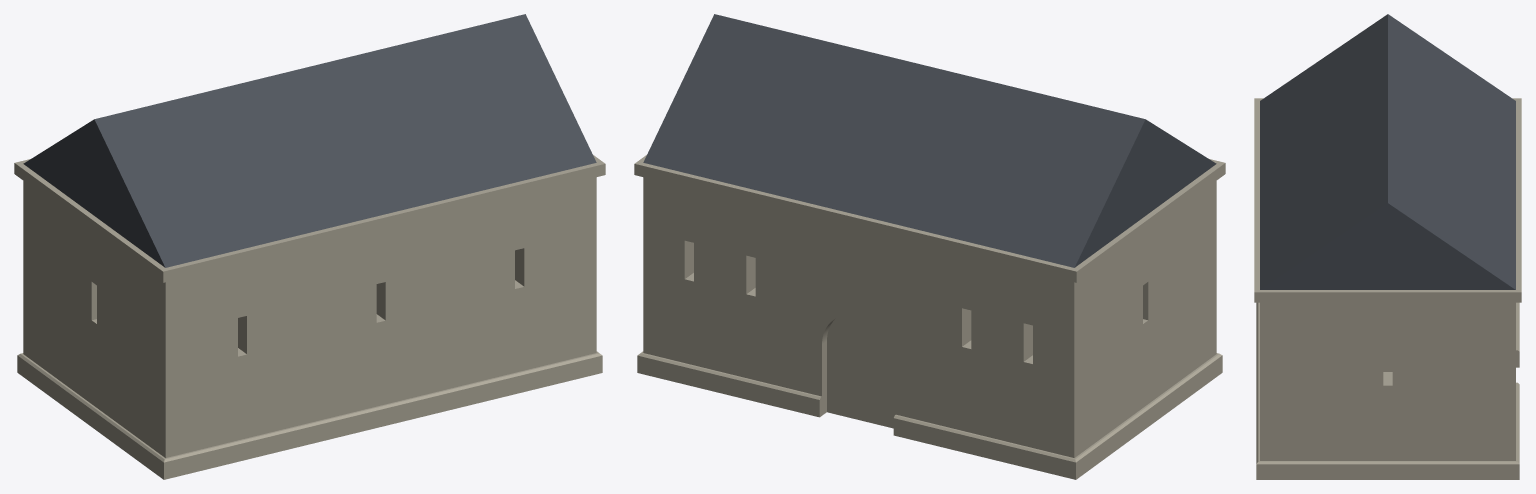
The picture shows the model from 3 angles, left to right: view 1: azimuth 30°, elevation 25°; view 2: azimuth 150°, elevation 25°; view 3: azimuth 270°, elevation 25°; orthographic projection. The views are drawn at different scales.
Visible parts, largest first — view 1: body_stone, roof_slate, trim_stone; view 2: body_stone, roof_slate, trim_stone; view 3: roof_slate, body_stone, trim_stone.
Part boxes in pixels (left/top/right/bottom): body_stone: left=23, top=177, right=596, bottom=457; roof_slate: left=23, top=14, right=596, bottom=267; trim_stone: left=14, top=155, right=605, bottom=479; body_stone: left=643, top=177, right=1216, bottom=457; roof_slate: left=643, top=14, right=1216, bottom=267; trim_stone: left=634, top=155, right=1225, bottom=479; roof_slate: left=1260, top=14, right=1515, bottom=289; body_stone: left=1260, top=302, right=1515, bottom=460; trim_stone: left=1254, top=98, right=1521, bottom=479.
Size of what is drawn, in the model's own units: 14.36 by 9.5 by 8.36.
